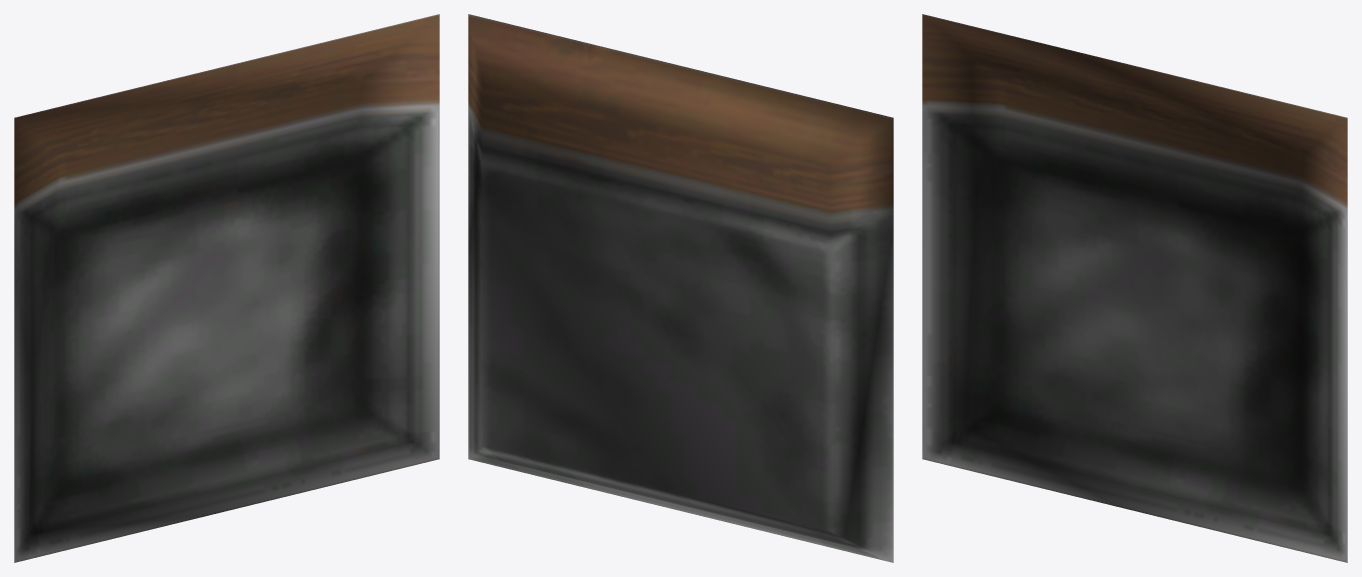
The model's file is INST_SWORDLIGHT_TRAY18M.fbx.
3 views of the same model, side by side, from view 1: azimuth 30°, elevation 25°; view 2: azimuth 150°, elevation 25°; view 3: azimuth 330°, elevation 25° (orthographic).
Parts seen in each view (by area): view 1: INST_SWORDLIGHT_TRAY18M; view 2: INST_SWORDLIGHT_TRAY18M; view 3: INST_SWORDLIGHT_TRAY18M.
Boxes of the visible parts, box(x1,y1,x2,y2) form: INST_SWORDLIGHT_TRAY18M: box(14, 14, 439, 562); INST_SWORDLIGHT_TRAY18M: box(468, 14, 893, 562); INST_SWORDLIGHT_TRAY18M: box(922, 14, 1347, 562).
Size of the model in its own units: 14998 by 15001 by 1483.
1 material, 1 textured.
